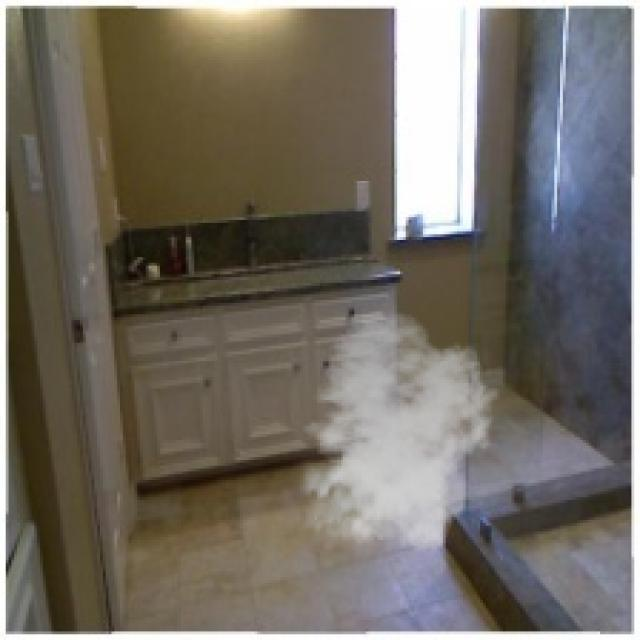Smoke: (288, 311, 501, 560)
